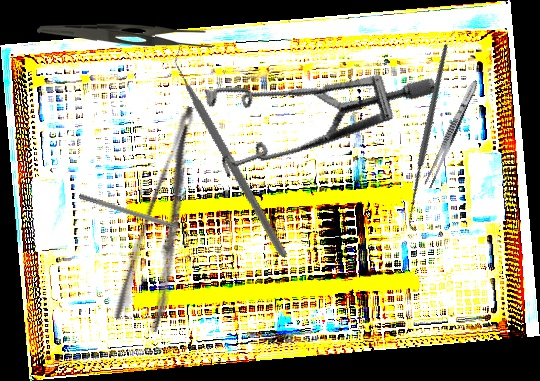Chopper: (114, 43, 351, 258)
Dressing Forceps: (109, 104, 231, 333), (422, 77, 481, 191), (36, 21, 216, 54)
Hook Surgical: (338, 43, 523, 232)
Pusher: (77, 193, 198, 238)
Speculum: (178, 2, 439, 236)
